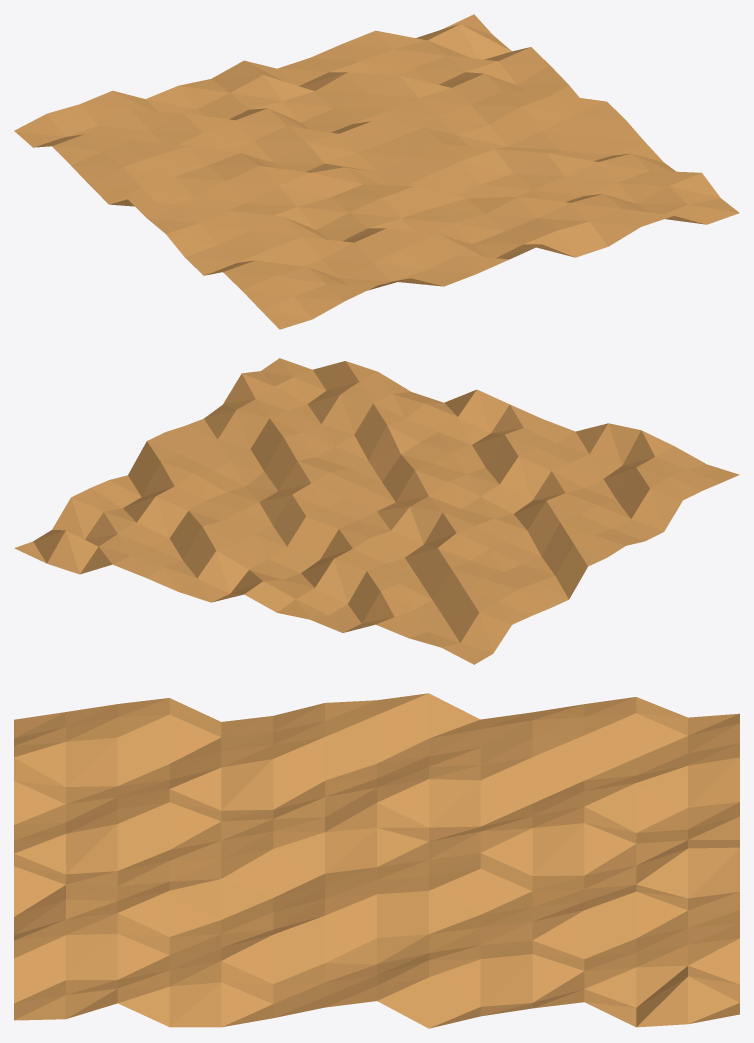
The model's file is Desert.fbx.
3 views of the same model, one above another, from view 1: azimuth 30°, elevation 25°; view 2: azimuth 150°, elevation 25°; view 3: azimuth 270°, elevation 25° (orthographic). The views are drawn at different scales.
Parts seen in each view (by area): view 1: Desert; view 2: Desert; view 3: Desert.
Boxes of the visible parts, x1,y1,x2,y2 form: Desert: [14, 14, 739, 329]; Desert: [14, 358, 739, 664]; Desert: [14, 693, 739, 1028].
Bounding box in the file's own units: 1601 × 79.37 × 1601.
